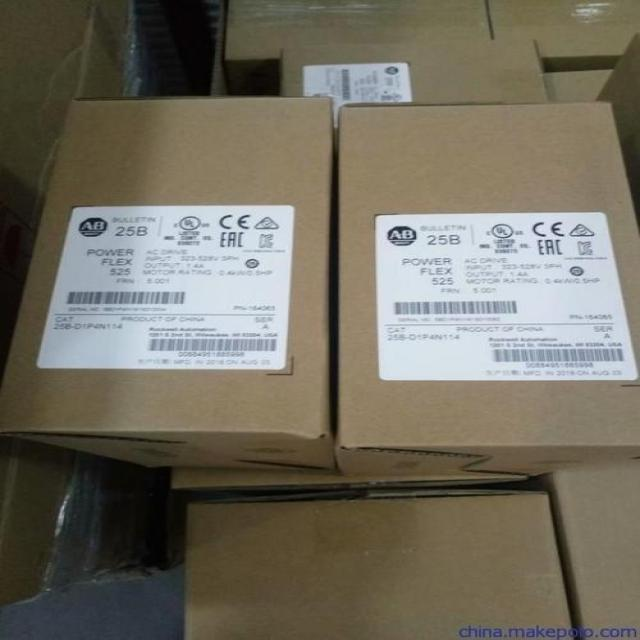box: (0, 96, 339, 477), (337, 101, 637, 475), (0, 0, 212, 376), (185, 491, 570, 639), (0, 433, 189, 602), (281, 39, 550, 128), (545, 454, 637, 639), (224, 3, 494, 60), (485, 1, 639, 73), (599, 32, 637, 235), (171, 470, 529, 484), (544, 67, 615, 99)
